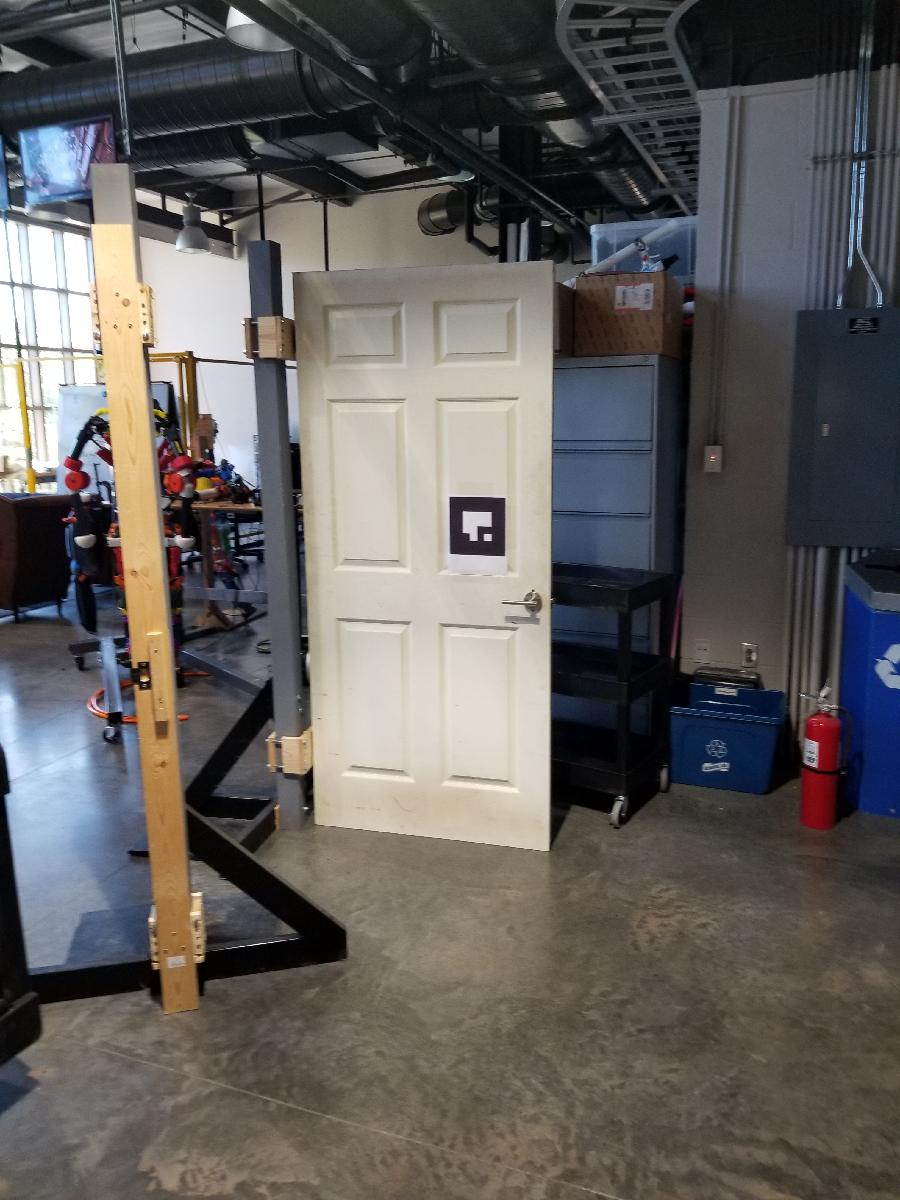door: (290, 257, 562, 856)
doorHandle: (502, 590, 546, 618)
